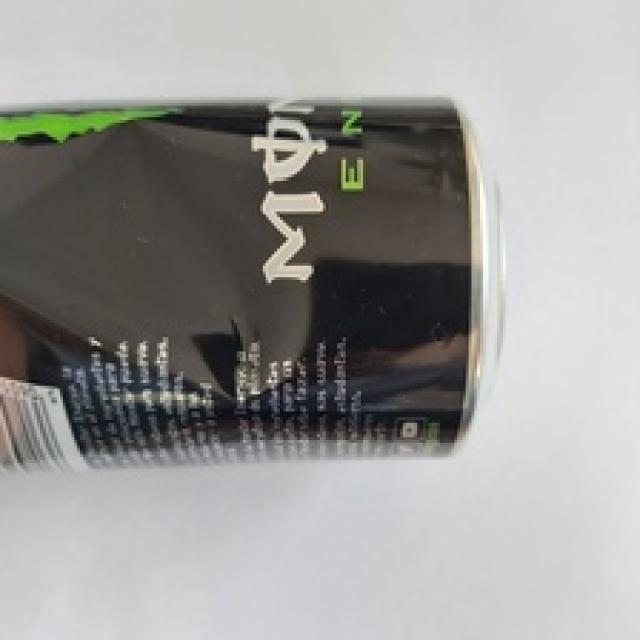recyclable: (0, 94, 503, 474)
